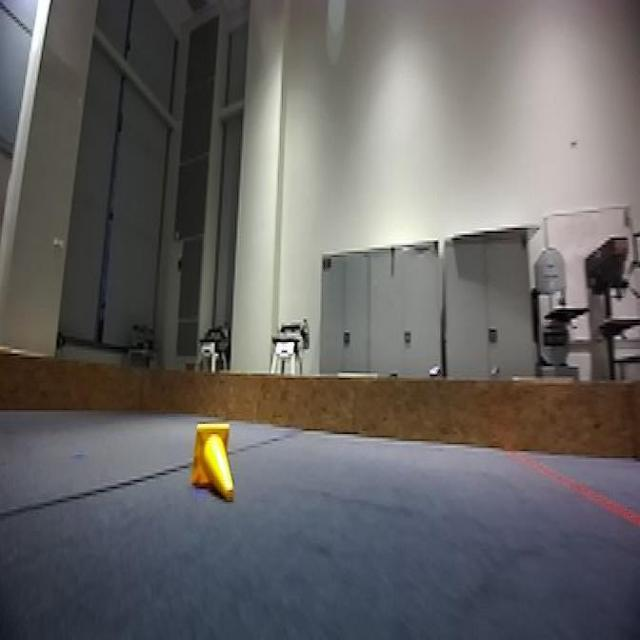frc_cone: (187, 417, 241, 504)
